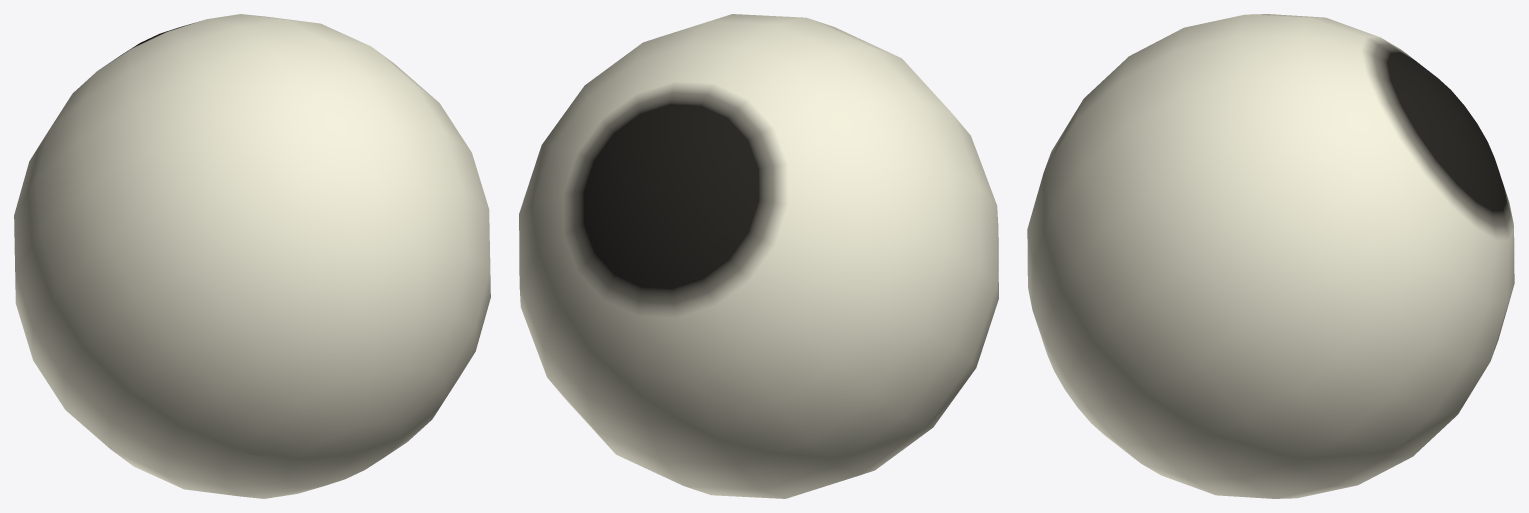
File: enemy_eye.obj
3 renders of one model, left to right at view 1: azimuth 30°, elevation 25°; view 2: azimuth 150°, elevation 25°; view 3: azimuth 270°, elevation 25°, orthographic.
Visible parts, largest first — view 1: 球; view 2: 球; view 3: 球.
Part boxes in pixels (bbox=[...]): 球: bbox=[14, 14, 490, 498]; 球: bbox=[519, 14, 998, 498]; 球: bbox=[1027, 14, 1514, 498].
Size of the model in its own units: 0.592 by 0.5966 by 0.5966.
